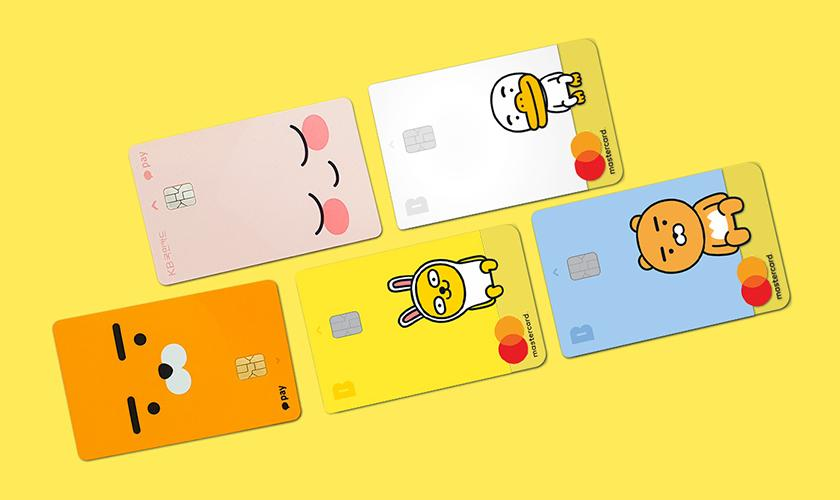Credit_card: (533, 163, 789, 357), (369, 40, 622, 229), (130, 98, 381, 284), (298, 225, 546, 412), (53, 279, 302, 459)
